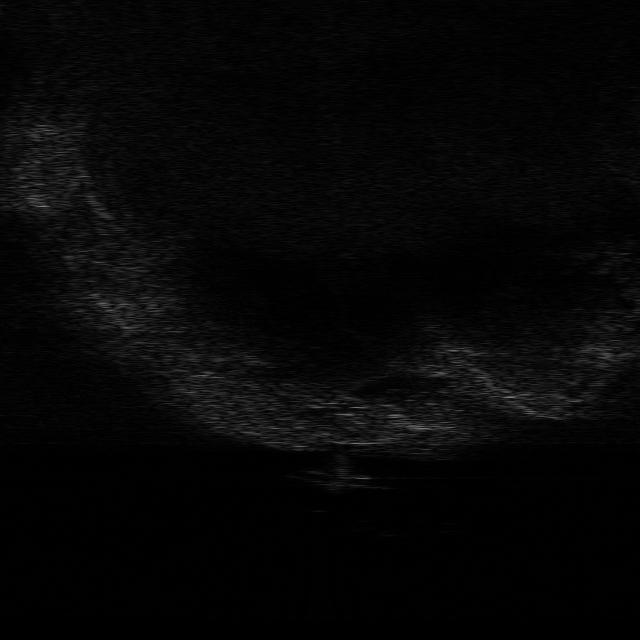plane: (282, 461, 388, 494)
